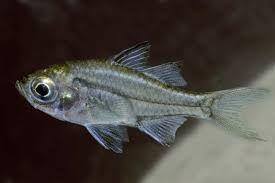Glass Perchlet: (14, 41, 271, 155)
